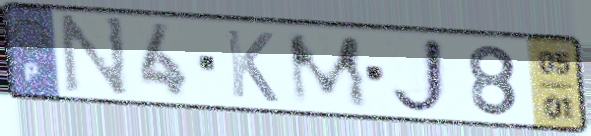4: (136, 20, 192, 101)
8: (465, 41, 522, 119)
J: (387, 34, 456, 118)
K: (222, 26, 282, 106)
M: (283, 32, 374, 110)
N: (59, 12, 131, 102)
